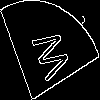W: (24, 25, 72, 88)
